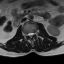CCS_normal: (30, 32, 32, 39)
LFS_normal: (34, 31, 36, 36)
LLS_normal: (32, 31, 34, 37)
RFS_normal: (25, 32, 28, 37)
RLS_normal: (28, 32, 30, 38)
